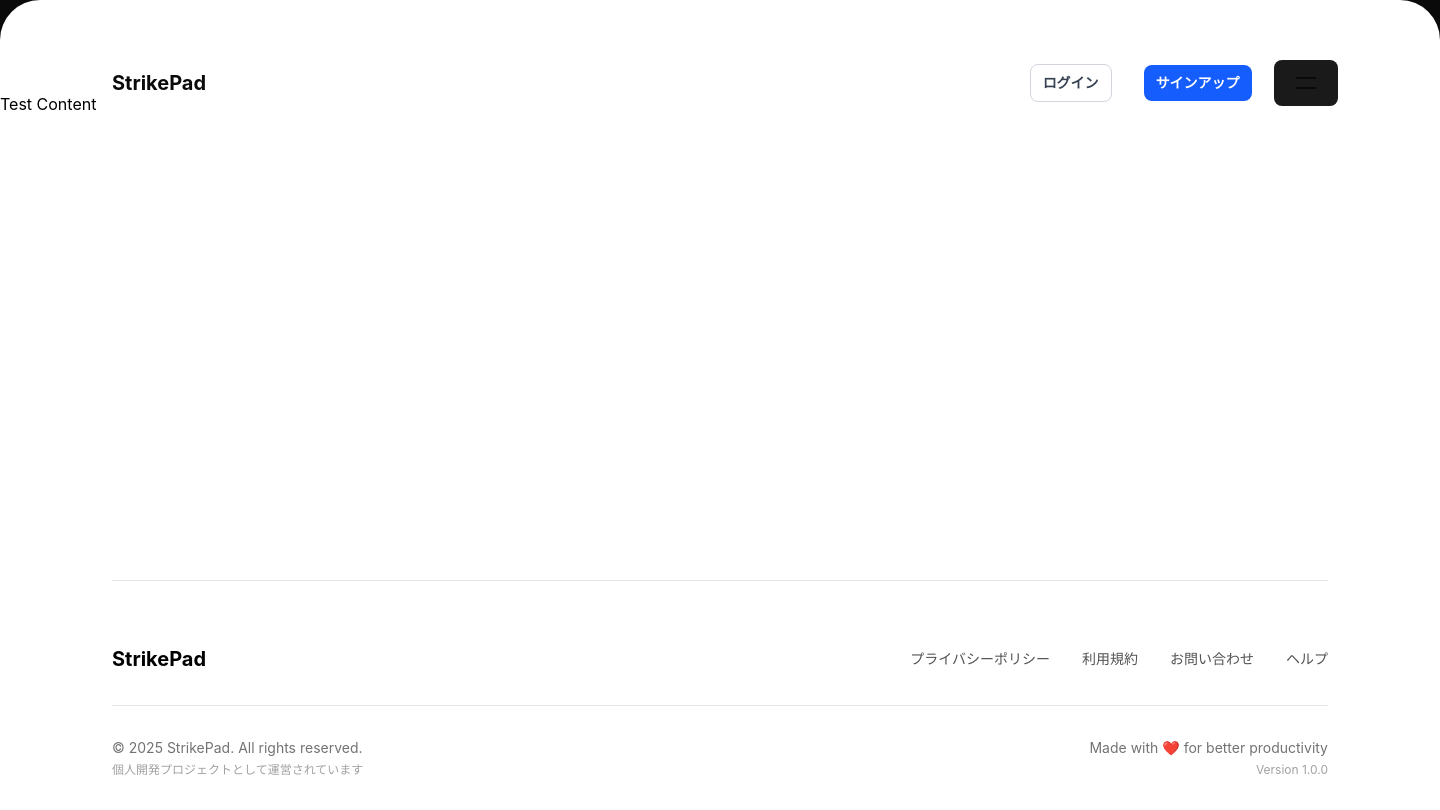
Scenario: Layout › Header Navigation › closes mobile menu when close button is clicked
The width and height of the screenshot is (1440, 810).
// Open the menu
Click the button named "toggle navigation" at [1306, 83], box [1274,60,1338,106]
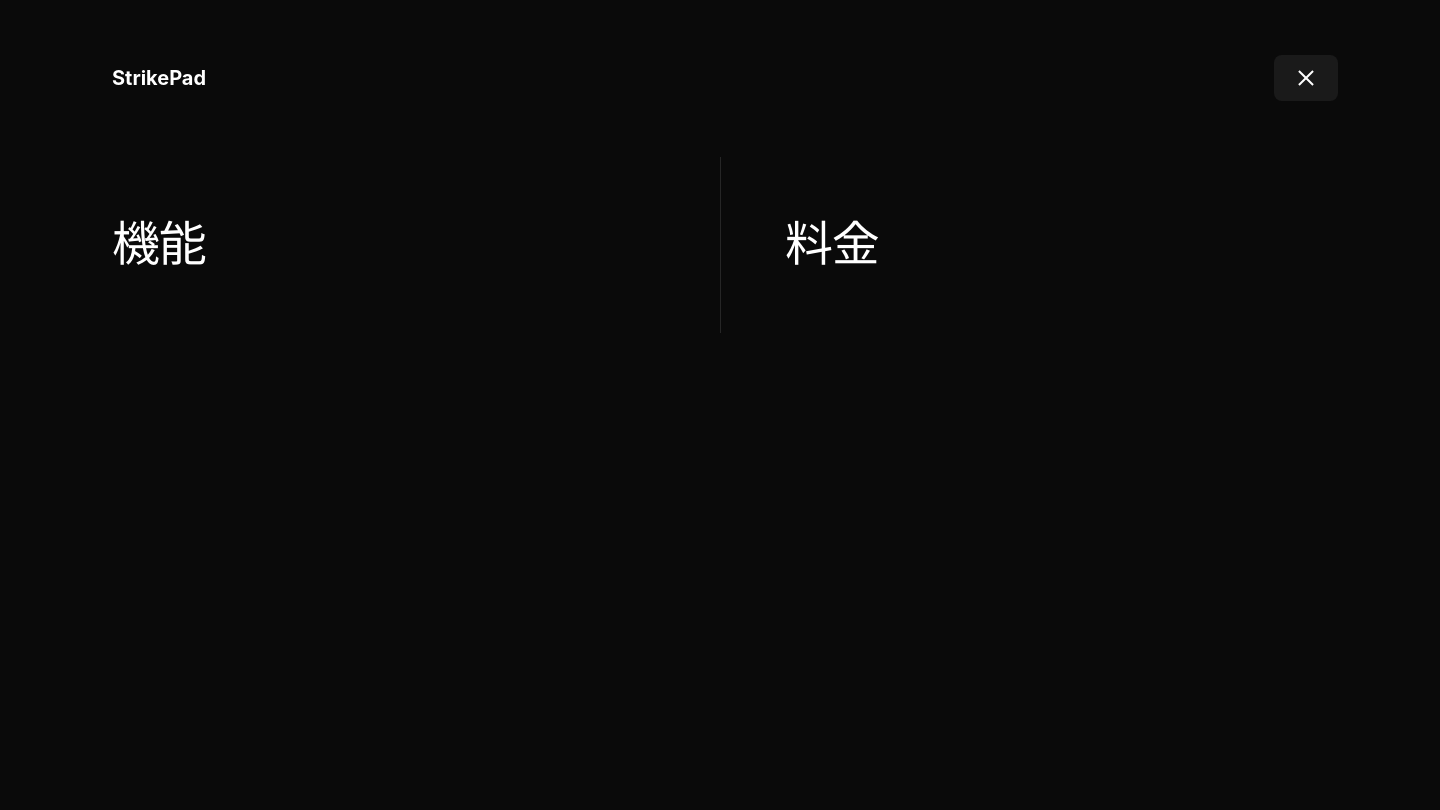
Now the link "機能" is shown, box [112,157,720,333]
// Click the close button
Click the button named "close navigation" at [1306, 78], box [1274,55,1338,101]
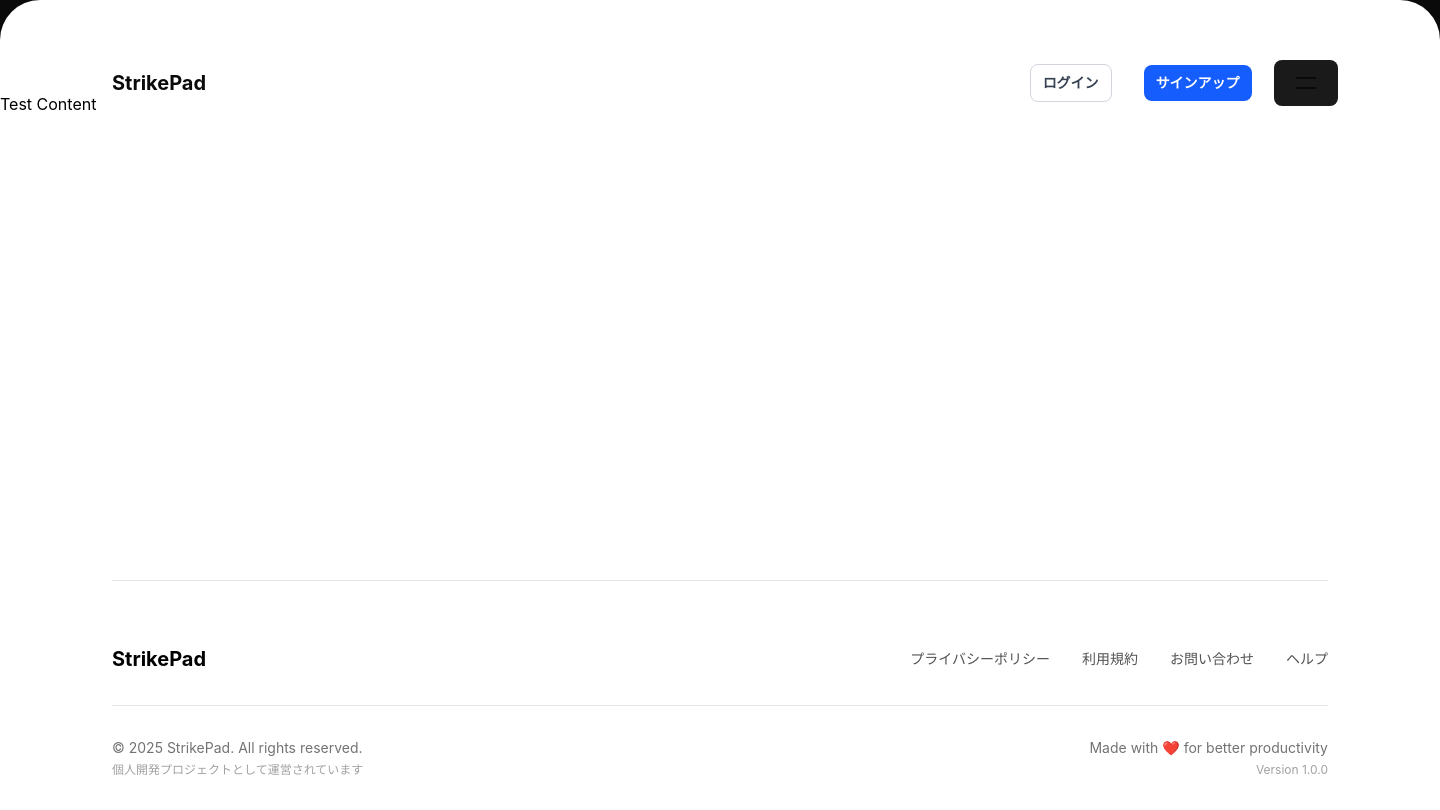
Now the link "機能" is gone
